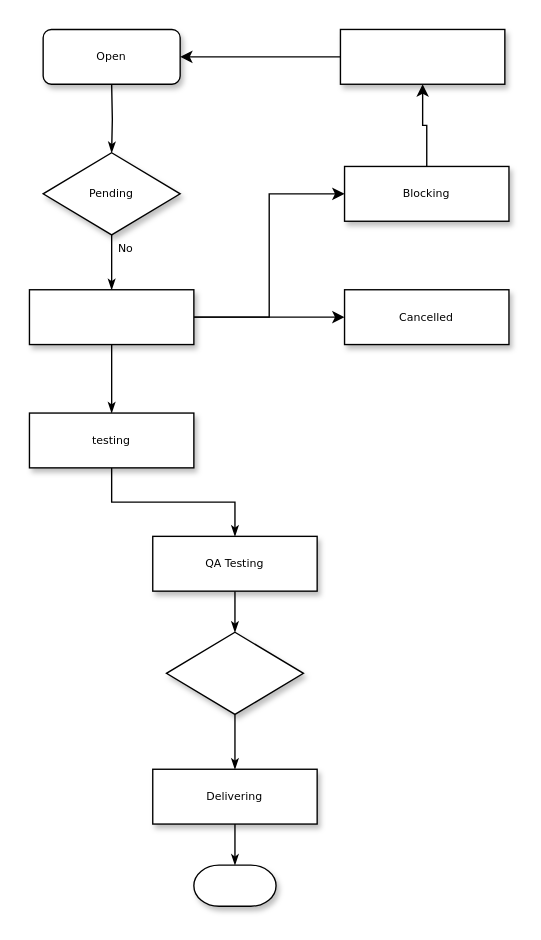
This 541x940 diagram has some shape labels left out. The shapes that lost their labels are listed below. From the top down, each one's centre as x and y in pixels, then its label:
the point at 423,58: Reopen
the point at 112,318: work in progress
the point at 236,674: Reviewing
the point at 235,887: Done
